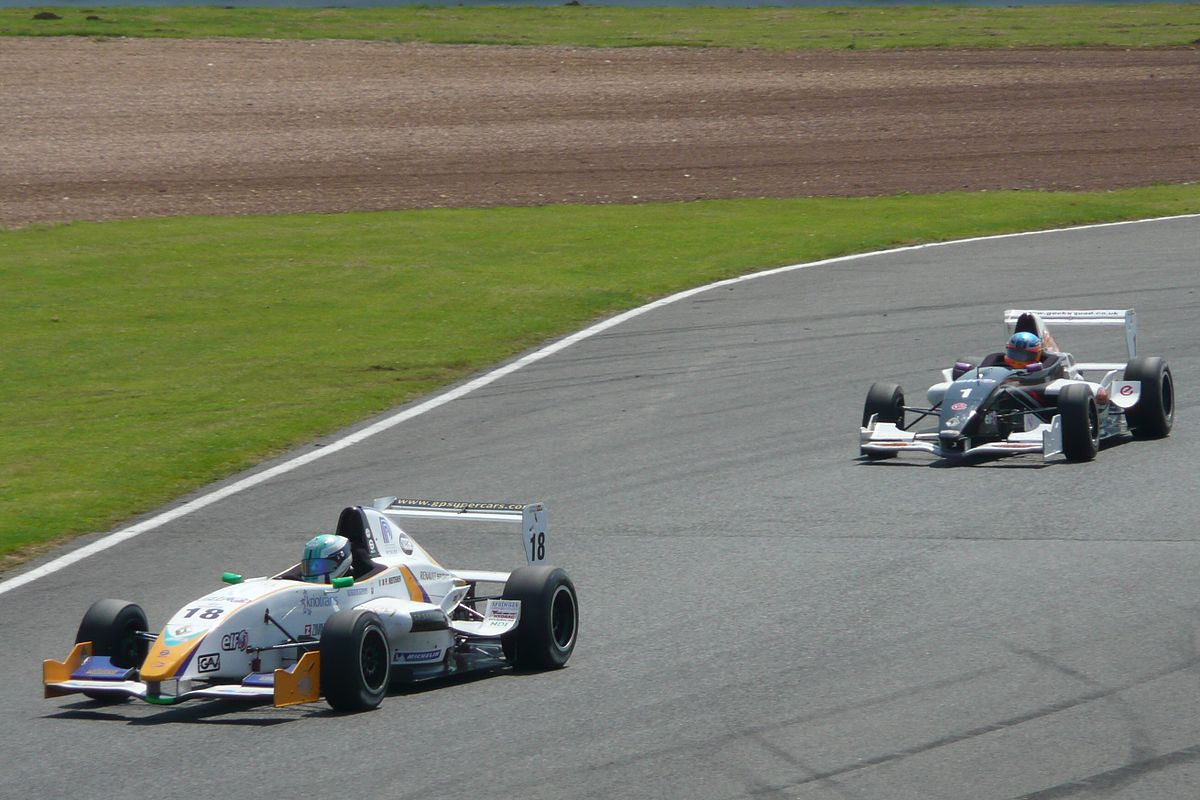race car: (39, 492, 585, 726), (854, 305, 1176, 472)
